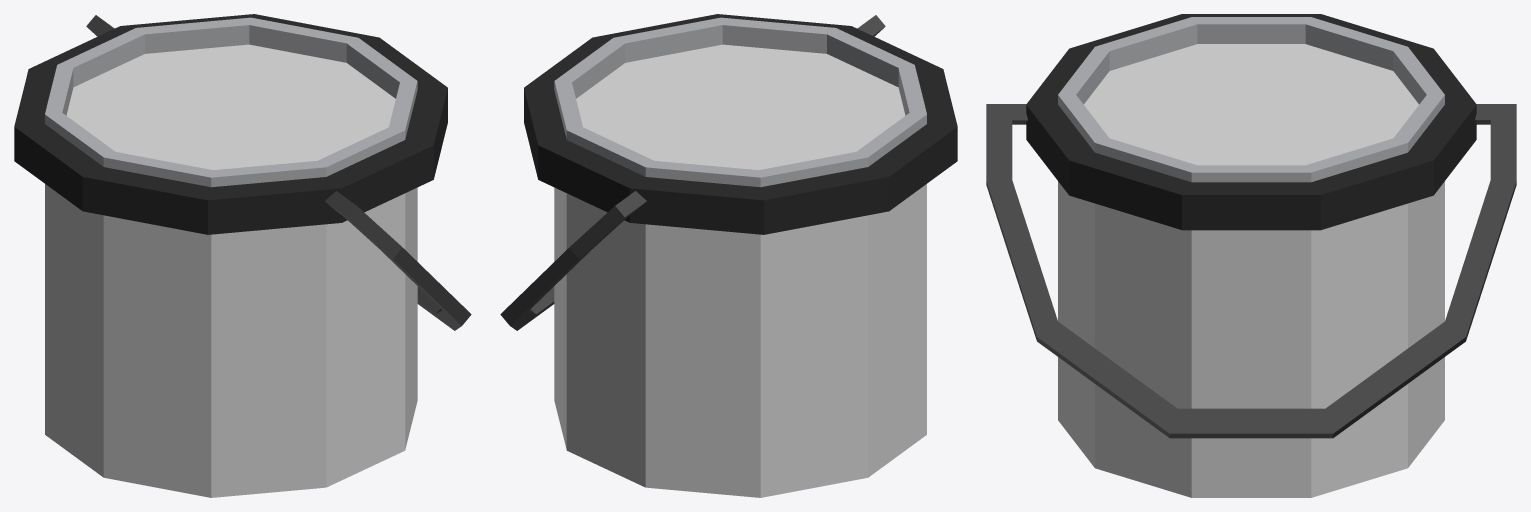
The model's file is Bucket.fbx.
3 views of the same model, side by side, from view 1: azimuth 30°, elevation 25°; view 2: azimuth 150°, elevation 25°; view 3: azimuth 270°, elevation 25° (orthographic).
Parts seen in each view (by area): view 1: Bucket; view 2: Bucket; view 3: Bucket.
Part boxes in pixels (x1,y1,x2,y2): Bucket: (14,14,471,497); Bucket: (500,14,957,497); Bucket: (986,14,1516,497).
Size of the model in its own units: 33.11 by 26.98 by 39.85.
